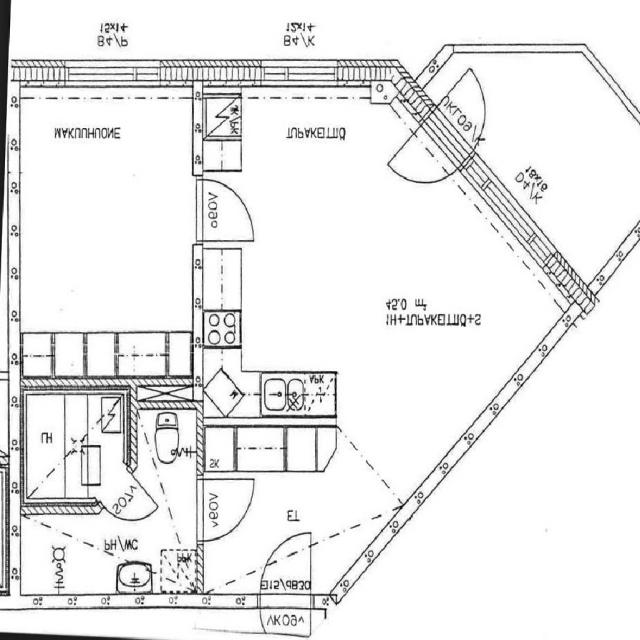door: (420, 60, 510, 169), (384, 106, 474, 215), (260, 530, 311, 608), (193, 179, 254, 240), (100, 469, 153, 535), (197, 479, 253, 540), (260, 593, 311, 640)
